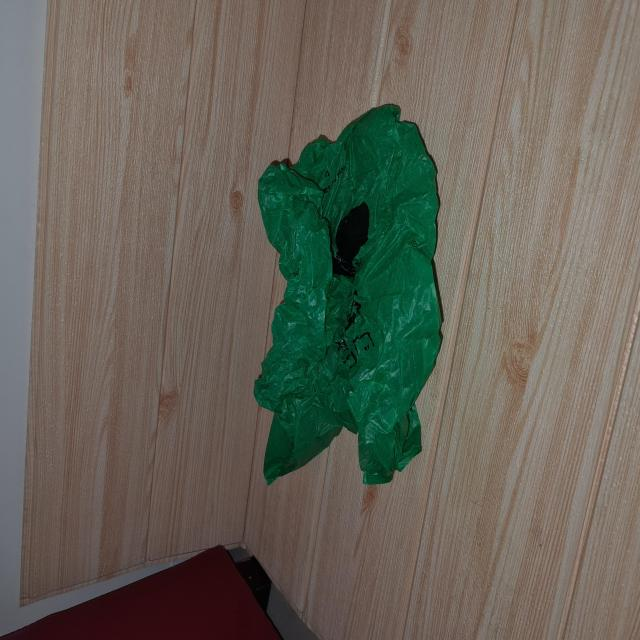plastic bag: (251, 104, 445, 487)
